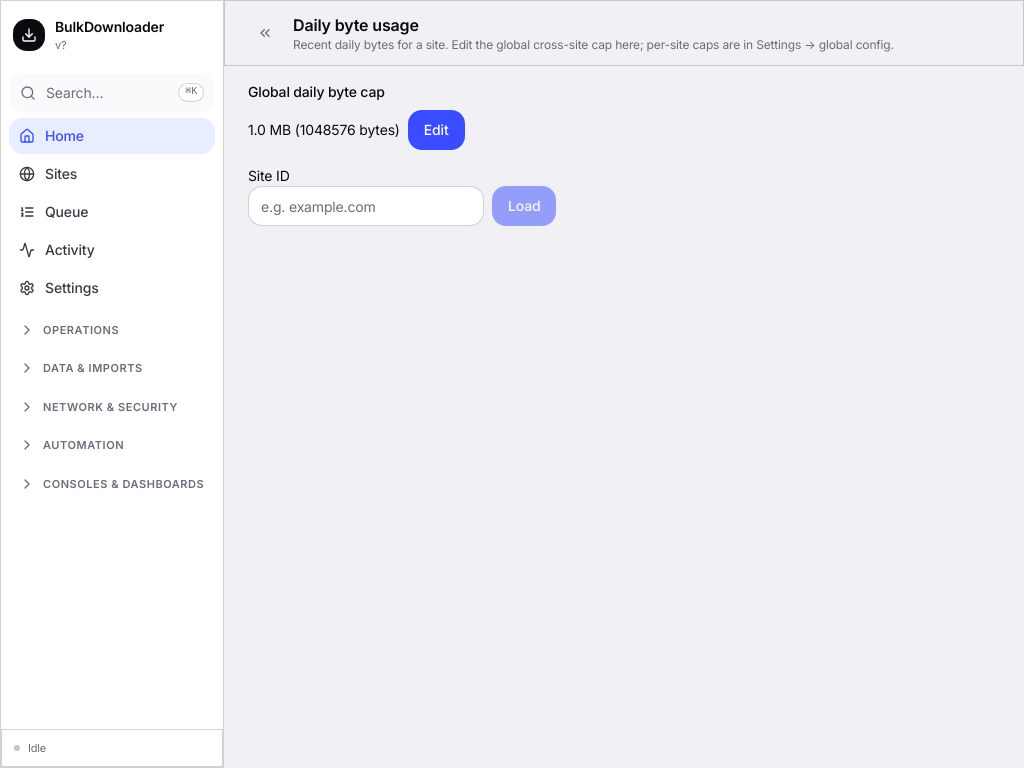
Test: Budget F041 edit then cancel › save POSTs the edited cap and shows the stored result
Expected: the text "1.0 MB (1048576 bytes)" is shown, [248,120,400,140]
Step 1. Click the button "Edit" → [436, 130], box [408,110,465,150]
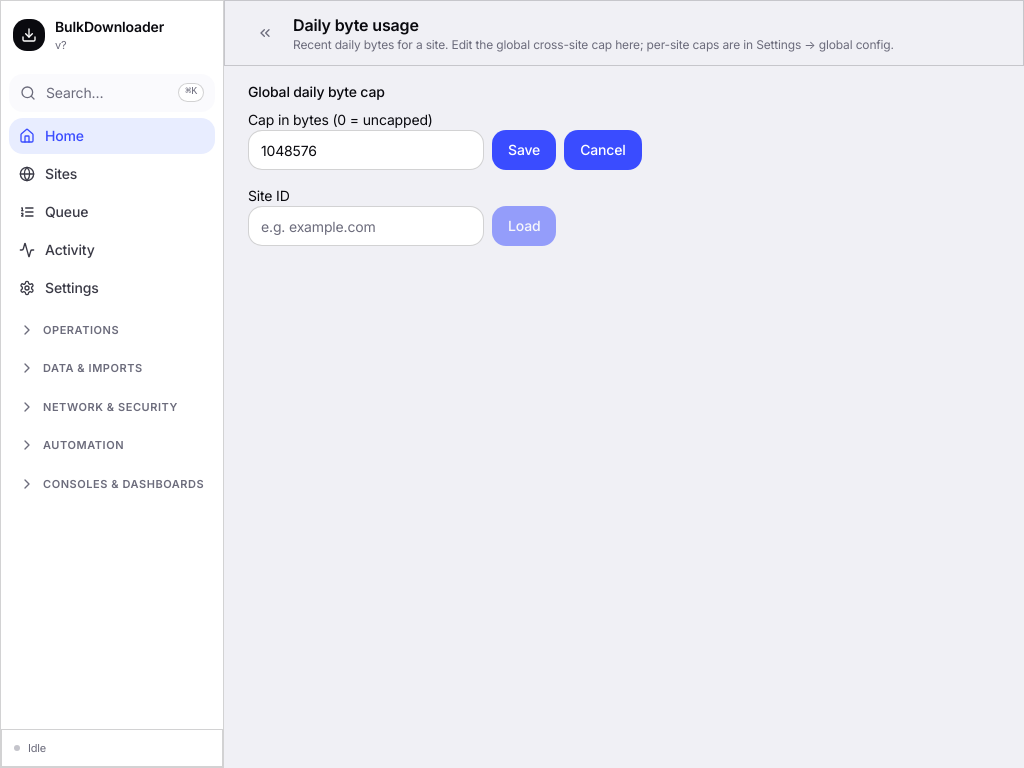
Step 2. Replace the text in the field named "global daily byte cap" with "2048" → [366, 150], box [248,130,484,170]
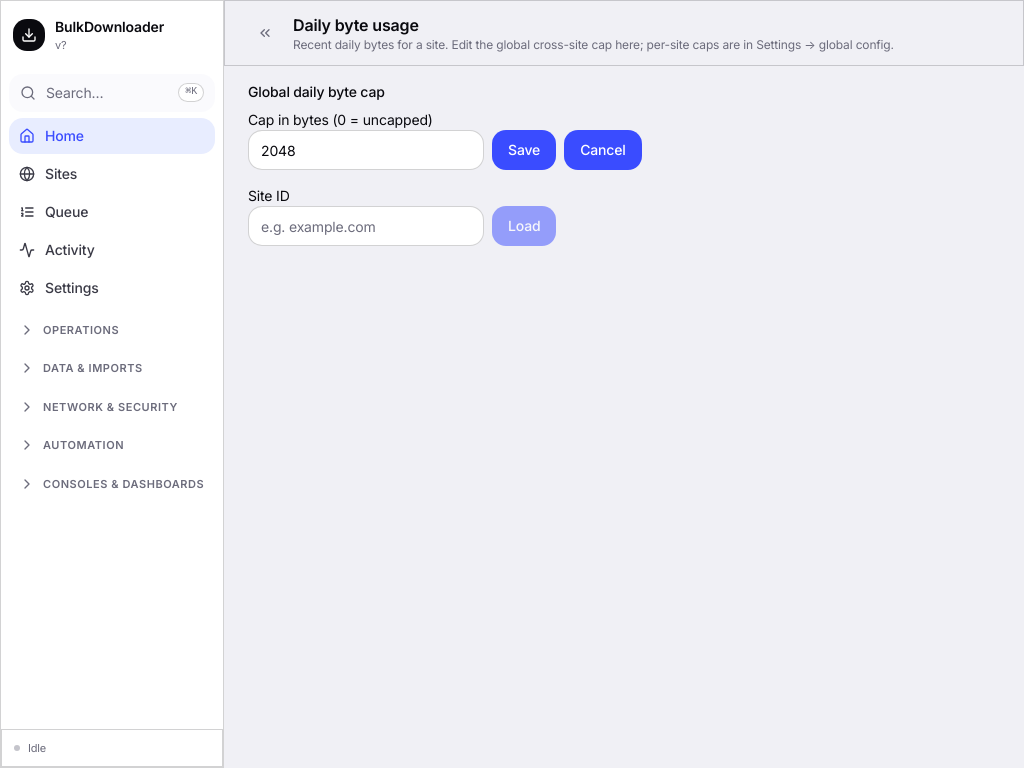
Step 3. Click the button "Save" → [524, 150], box [492,130,556,170]
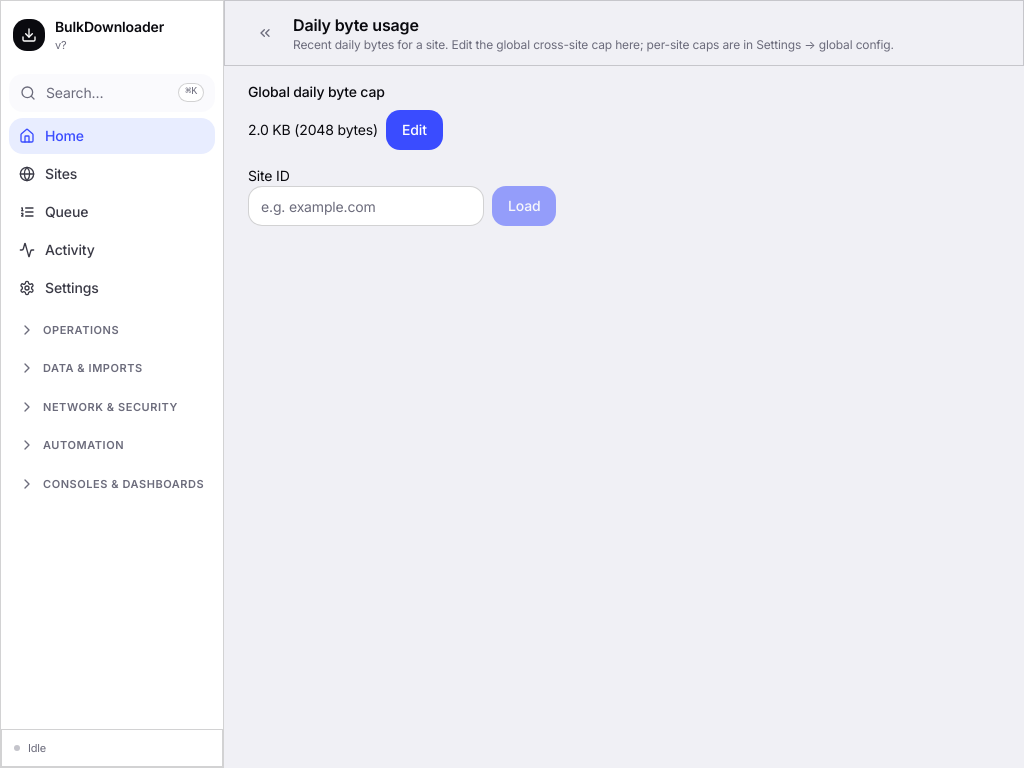
Result: the text with test id "budget-cap-value" shows "2048 bytes" at [248,121,378,138]
